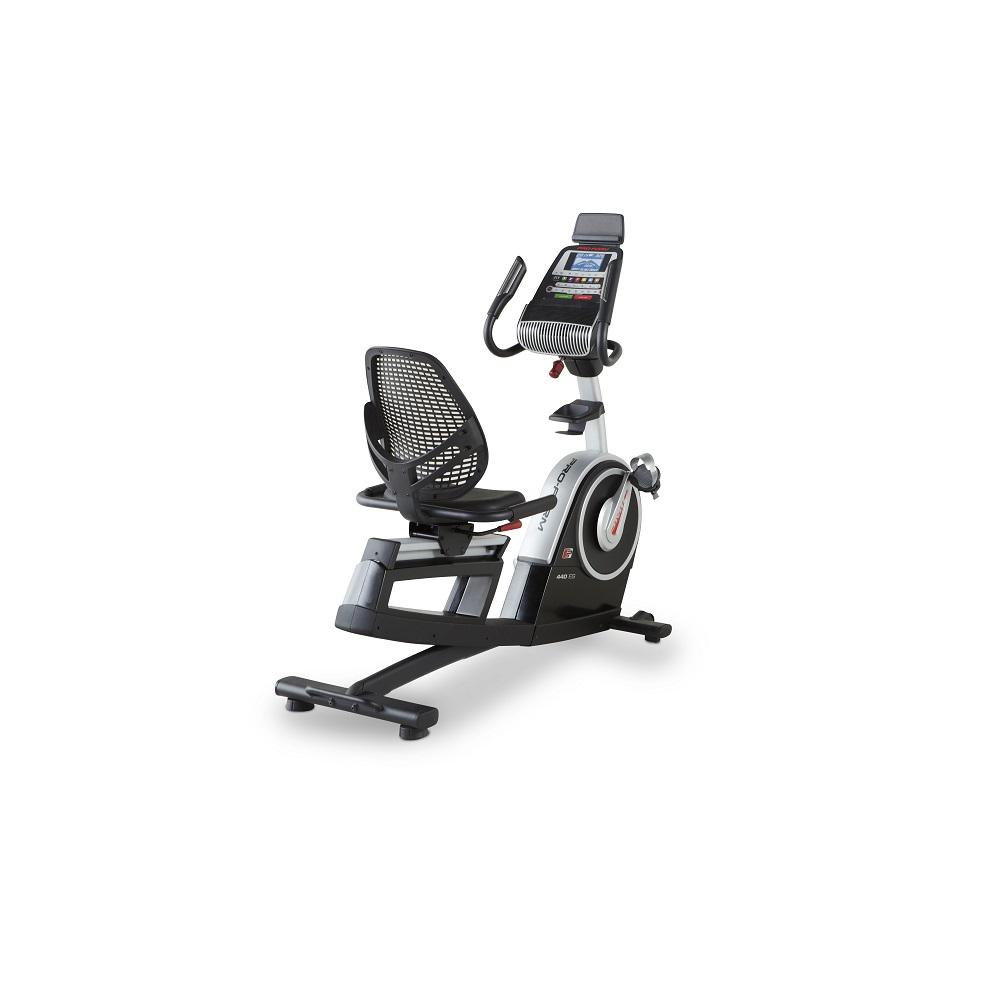gym_bike: (254, 206, 689, 752)
